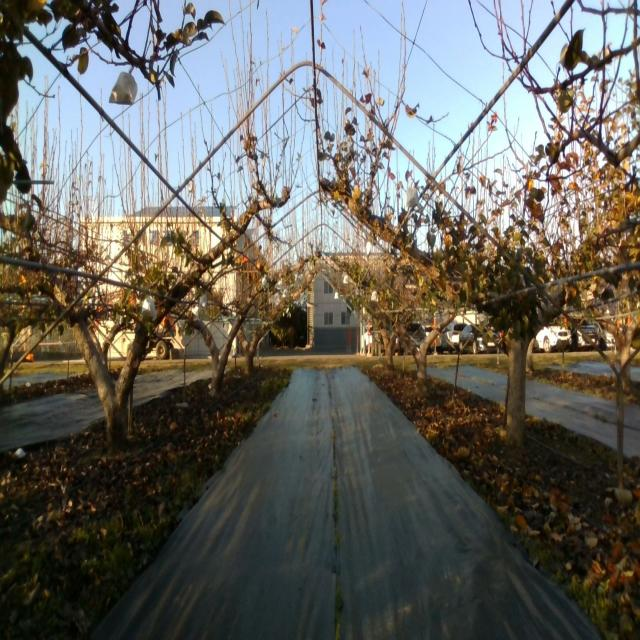pearbags: (109, 72, 138, 106), (141, 294, 157, 322), (405, 186, 419, 208)
